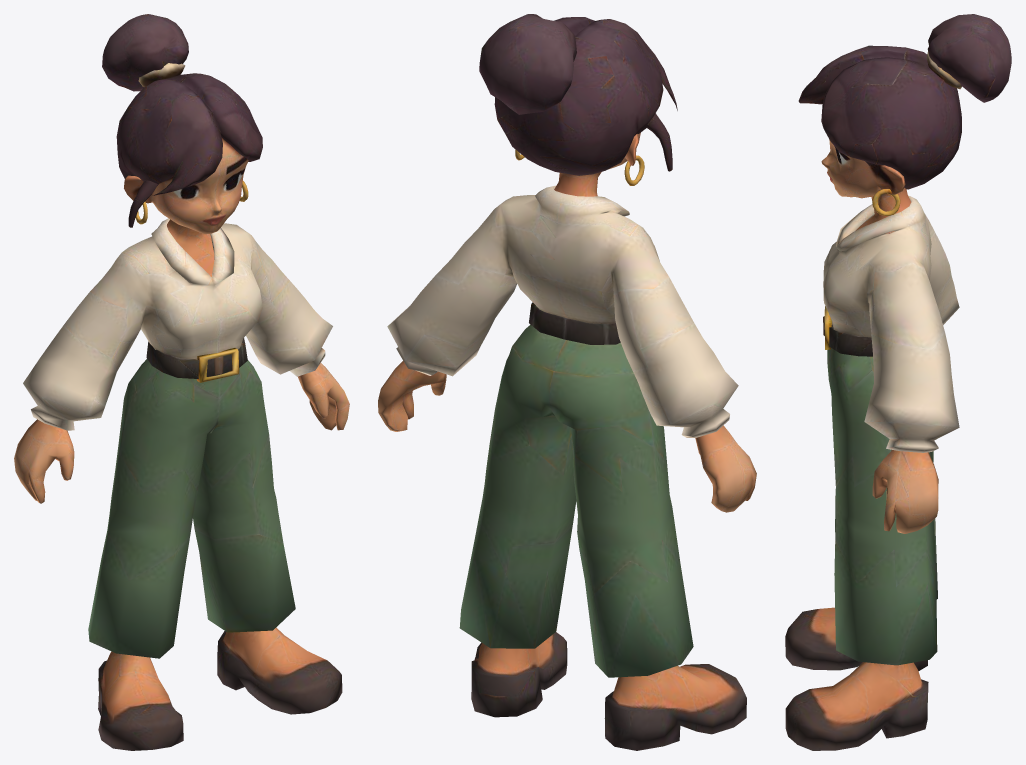
The model's file is Sofia.glb.
3 views of the same model, side by side, from view 1: azimuth 30°, elevation 25°; view 2: azimuth 150°, elevation 25°; view 3: azimuth 270°, elevation 25° (orthographic). The views are drawn at different scales.
Visible parts, largest first — view 1: geometry_0; view 2: geometry_0; view 3: geometry_0.
Boxes of the visible parts, left/top/right/bottom form: geometry_0: left=14, top=14, right=349, bottom=750; geometry_0: left=378, top=14, right=756, bottom=750; geometry_0: left=785, top=14, right=1011, bottom=750.
Size of the model in its own units: 0.5184 by 1 by 0.3059.
Materials: 1 (1 with a texture image).
